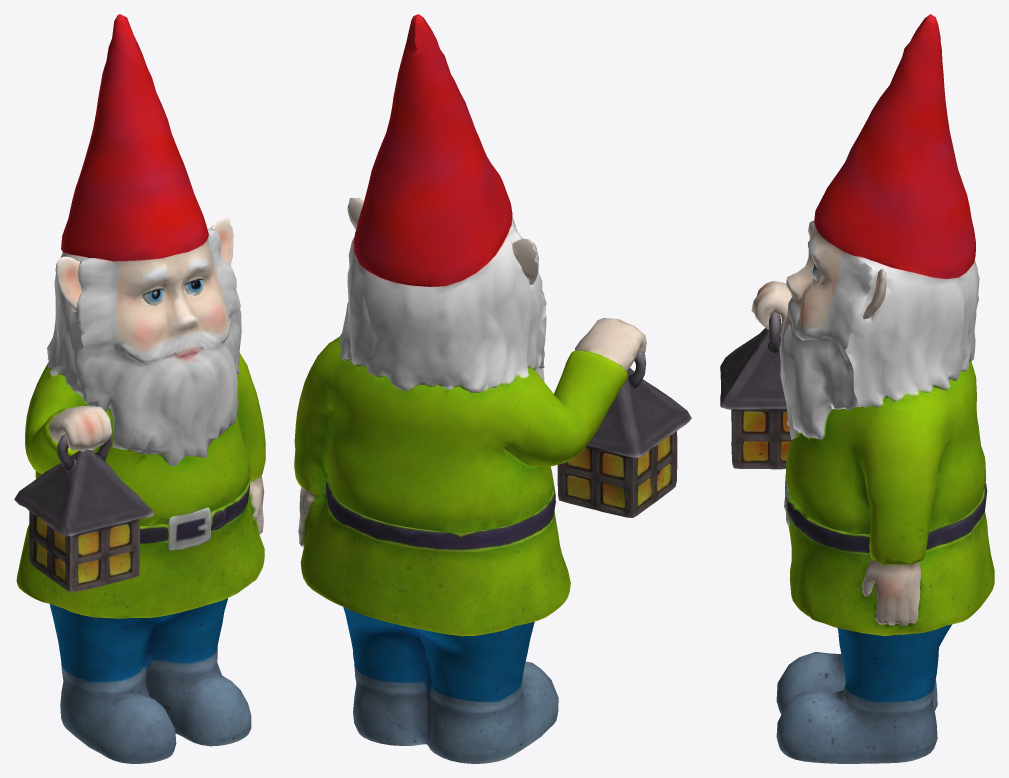
The model's file is gnome.glb.
3 views of the same model, side by side, from view 1: azimuth 30°, elevation 25°; view 2: azimuth 150°, elevation 25°; view 3: azimuth 270°, elevation 25° (orthographic). The views are drawn at different scales.
Parts seen in each view (by area): view 1: gnome; view 2: gnome; view 3: gnome.
Part boxes in pixels (<box>): gnome: <box>14,14,265,763</box>; gnome: <box>294,14,691,763</box>; gnome: <box>720,14,994,763</box>.
Bounding box in the file's own units: 0.2579 × 0.5998 × 0.2093.
Materials: 1 (1 with a texture image).
